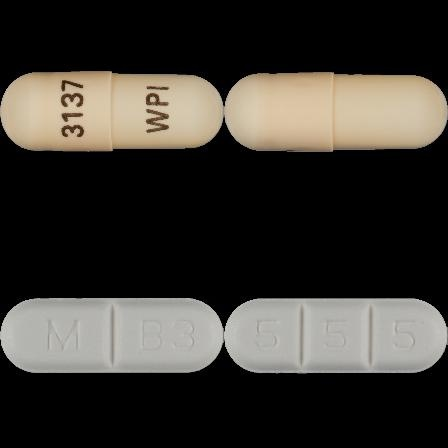55700-091: (0, 0, 224, 224)
